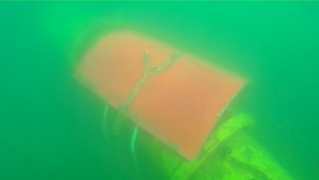leak: (75, 26, 251, 160)
pipe: (109, 105, 293, 180), (36, 1, 123, 76)
